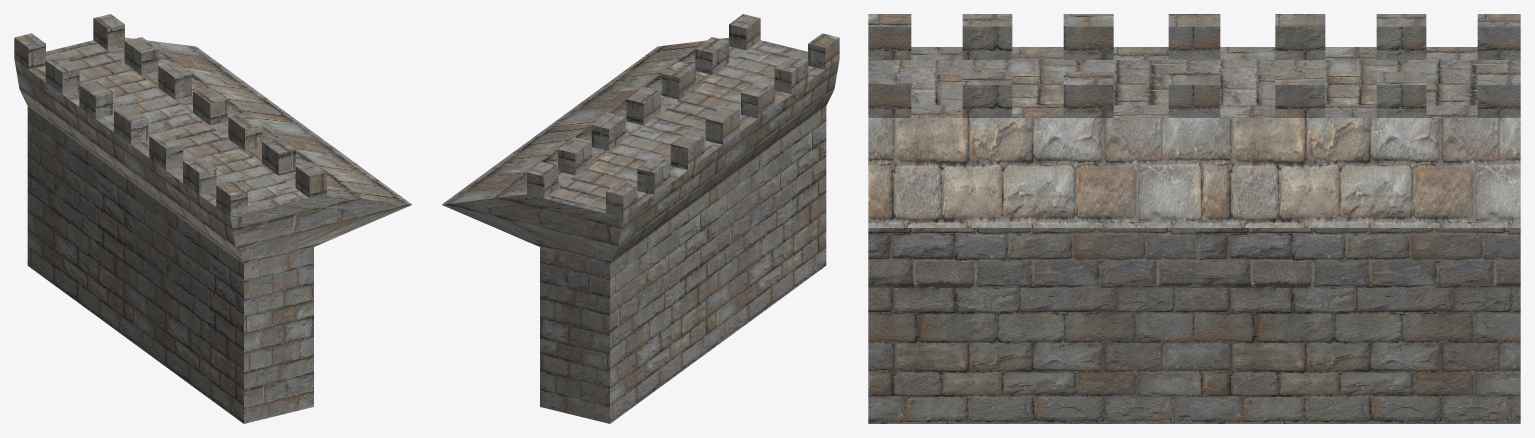
Rendered from Wall.glb.
3 views of the same model, side by side, from view 1: azimuth 30°, elevation 25°; view 2: azimuth 150°, elevation 25°; view 3: azimuth 270°, elevation 25° (orthographic). The views are drawn at different scales.
Visible parts, largest first — view 1: pCube1; view 2: pCube1; view 3: pCube1.
Boxes of the visible parts, box(x1,y1,x2,y2) form: pCube1: box(14, 14, 411, 423); pCube1: box(442, 14, 839, 423); pCube1: box(868, 14, 1520, 423).
Size of the model in its own units: 0.6483 by 0.7884 by 1.34.
Materials: 1 (1 with a texture image).
